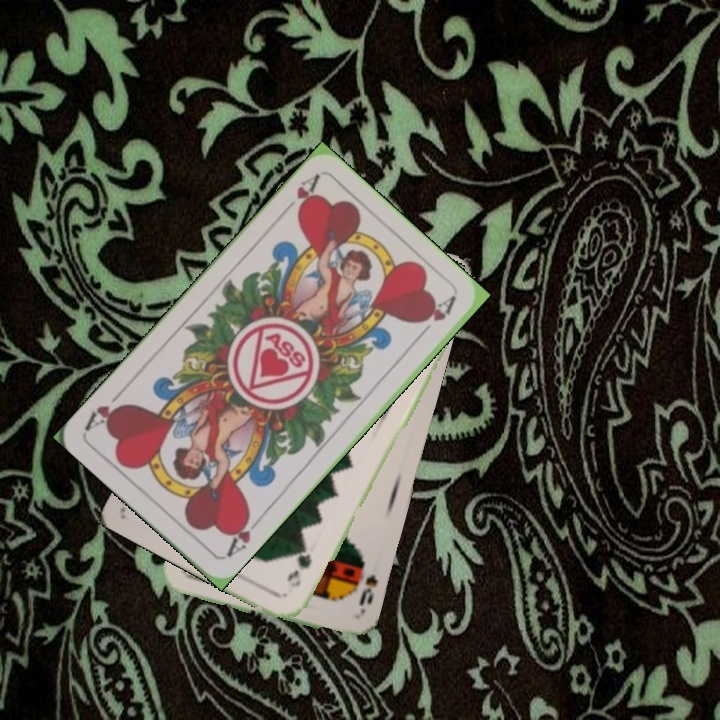G9: (283, 543, 314, 590)
HA: (221, 509, 265, 561), (276, 170, 322, 218)
SO: (355, 570, 380, 617)
